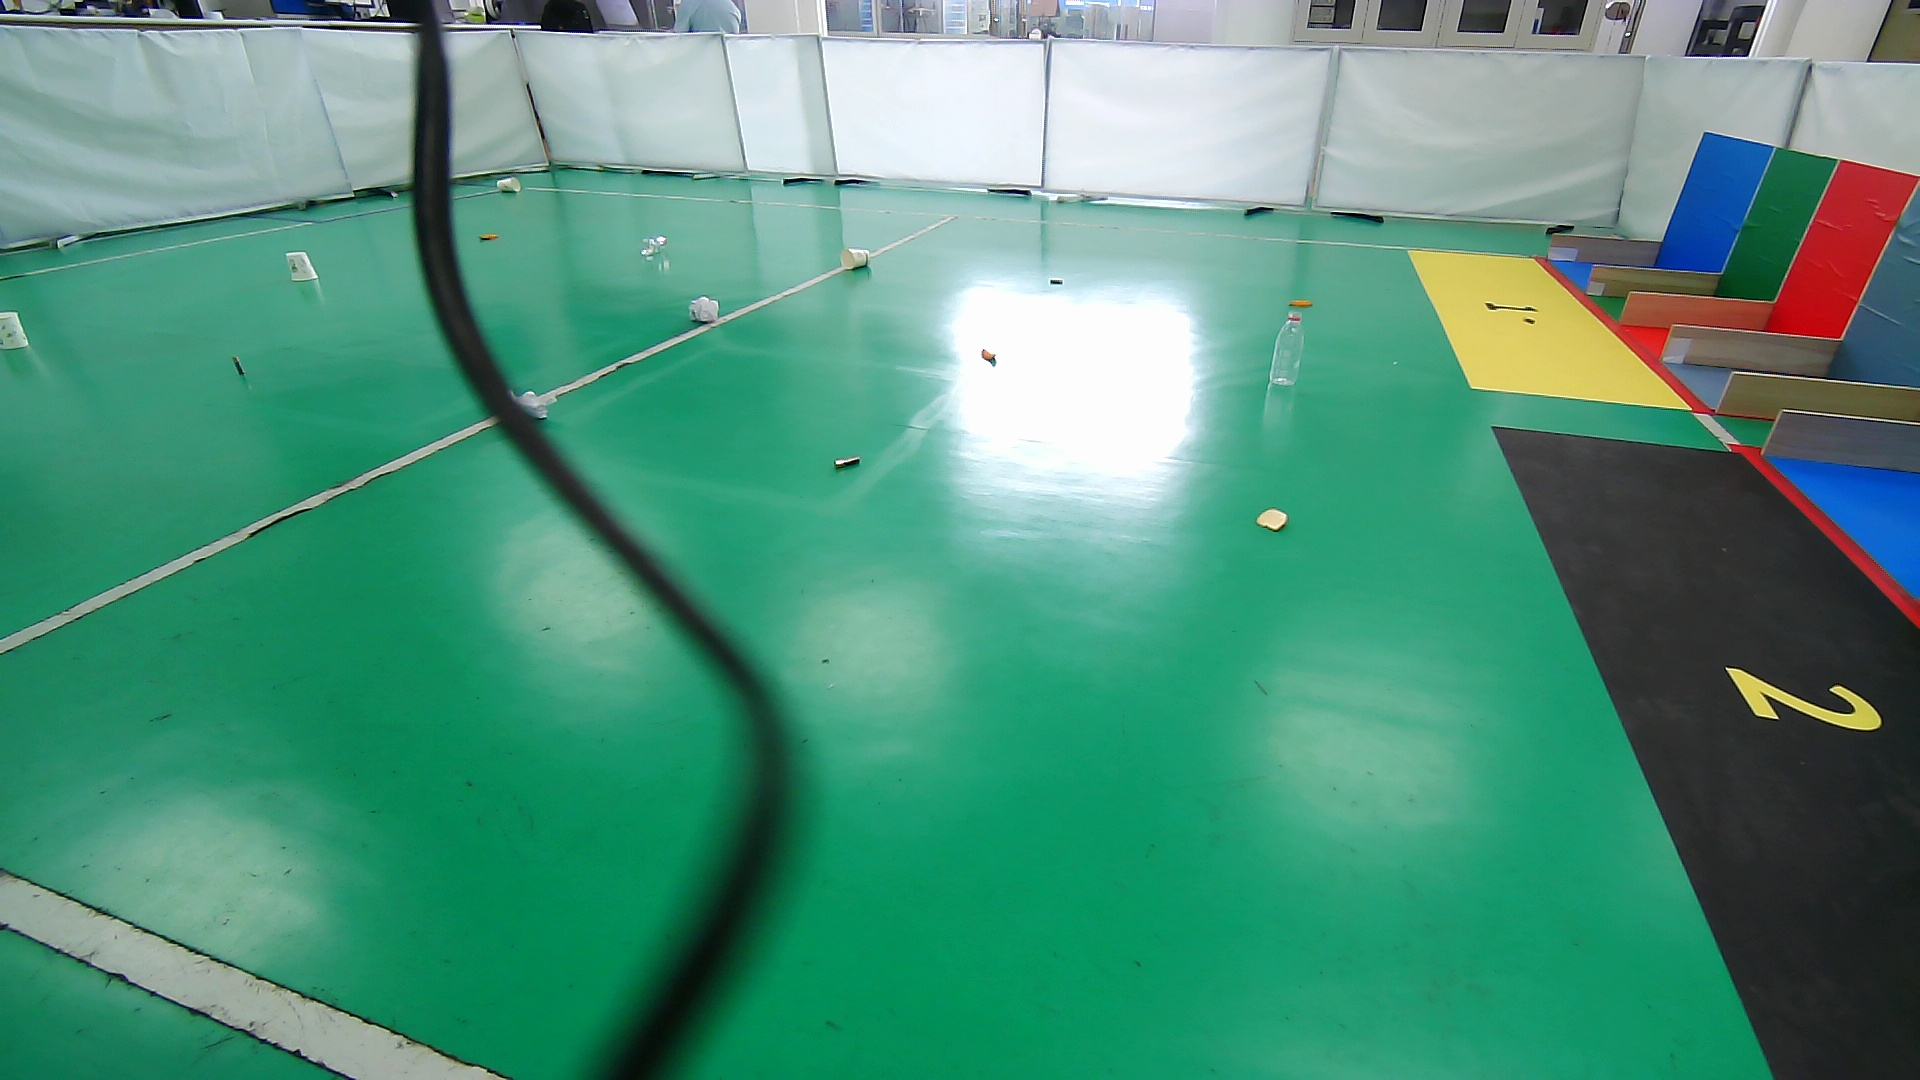battery: (828, 448, 870, 477), (227, 349, 251, 382), (1044, 274, 1068, 289)
bottle: (1266, 311, 1307, 386), (637, 231, 670, 258)
orangepeel: (1251, 501, 1295, 534), (976, 345, 1001, 367), (476, 229, 502, 247), (1284, 295, 1315, 310)
papercup: (1, 309, 32, 353), (282, 251, 322, 284), (839, 244, 873, 273), (495, 175, 524, 195)
spitball: (686, 294, 721, 324)
